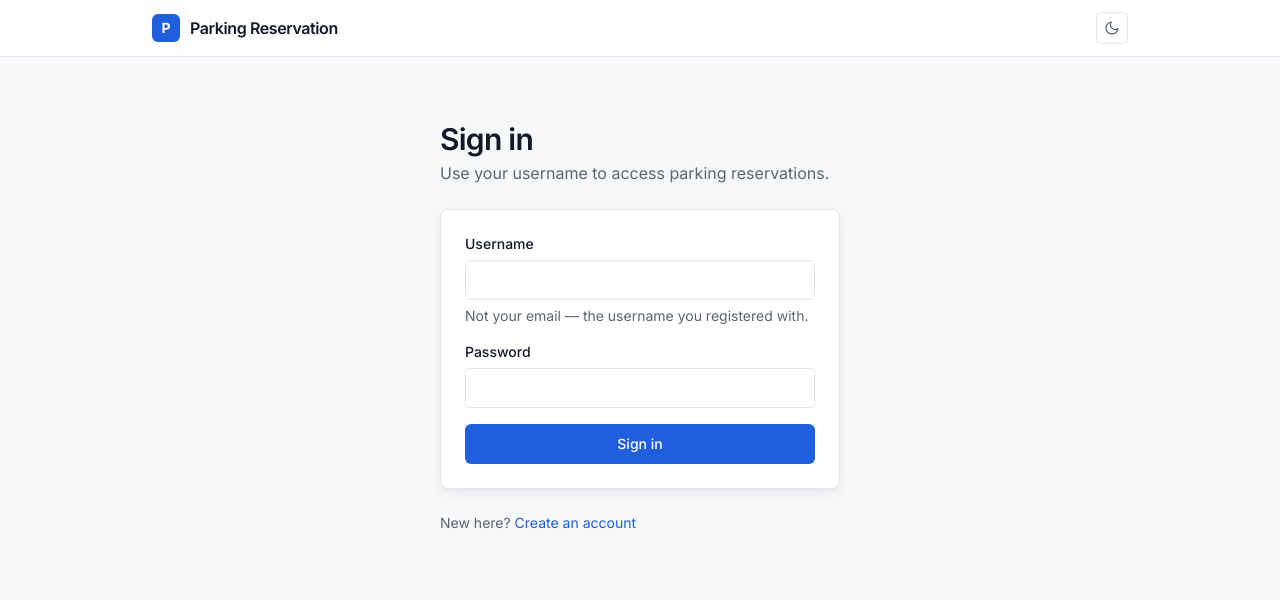
it: LoginPage › shows a form error on 401 and does not navigate
The image size is (1280, 600).
Type "admin" into the field labelled "Username" at (640, 280), box [465,260,815,300]
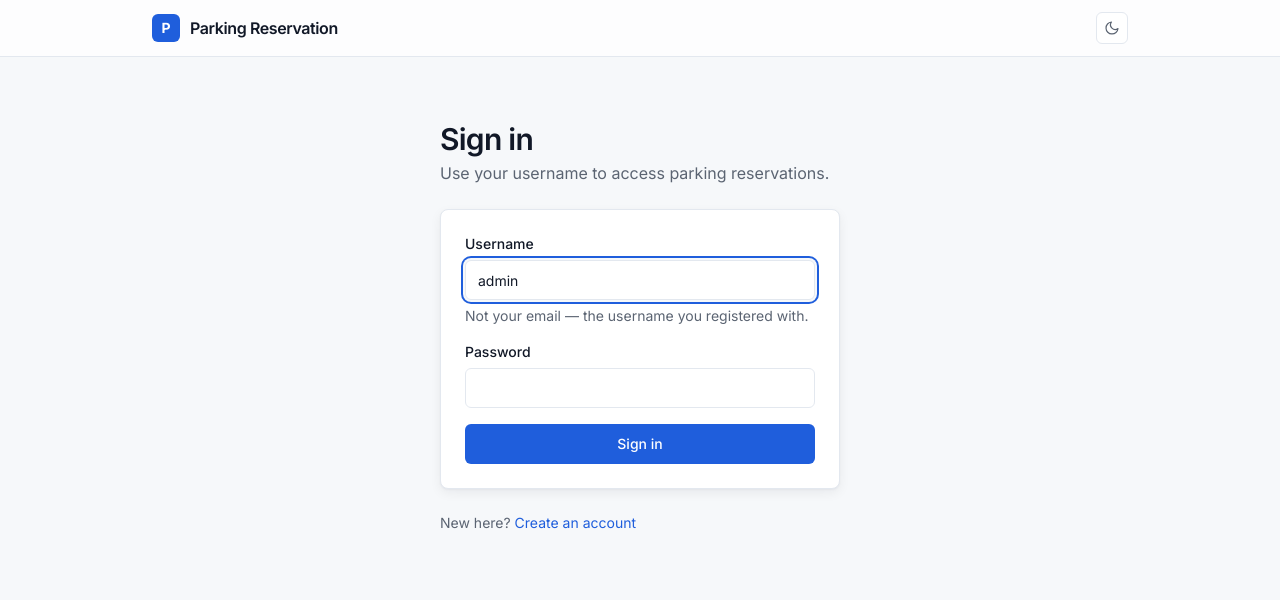
Type "wrong" into the password field labelled "Password" at (640, 388), box [465,368,815,408]
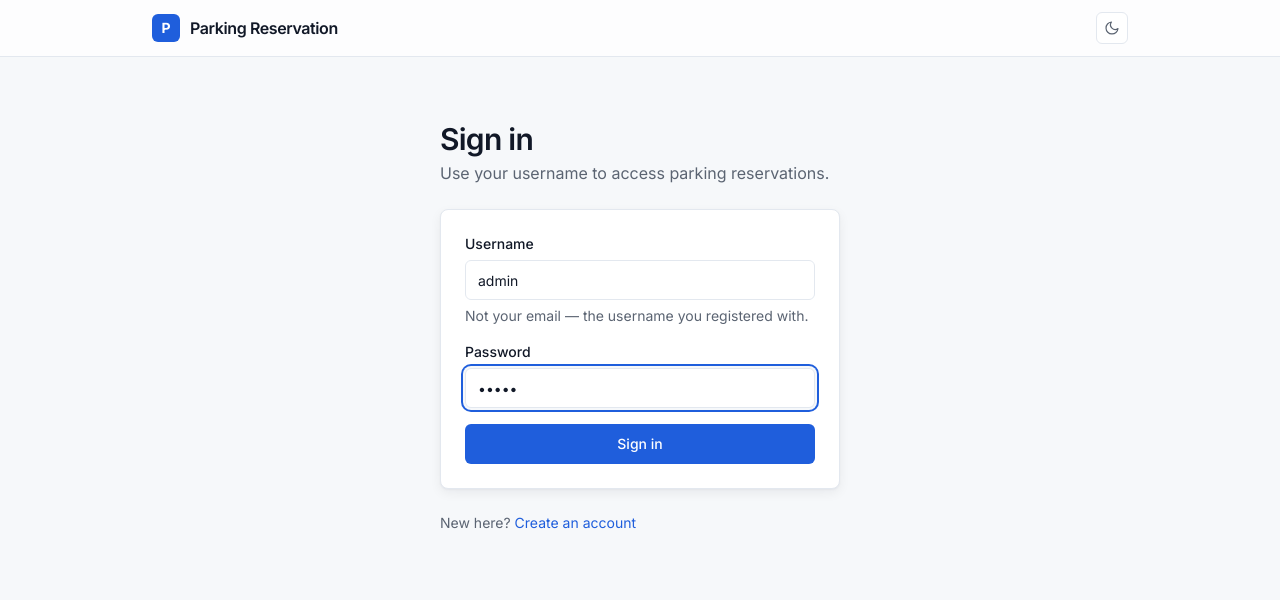
Click the button "Sign in" at (640, 444), box [465,424,815,464]
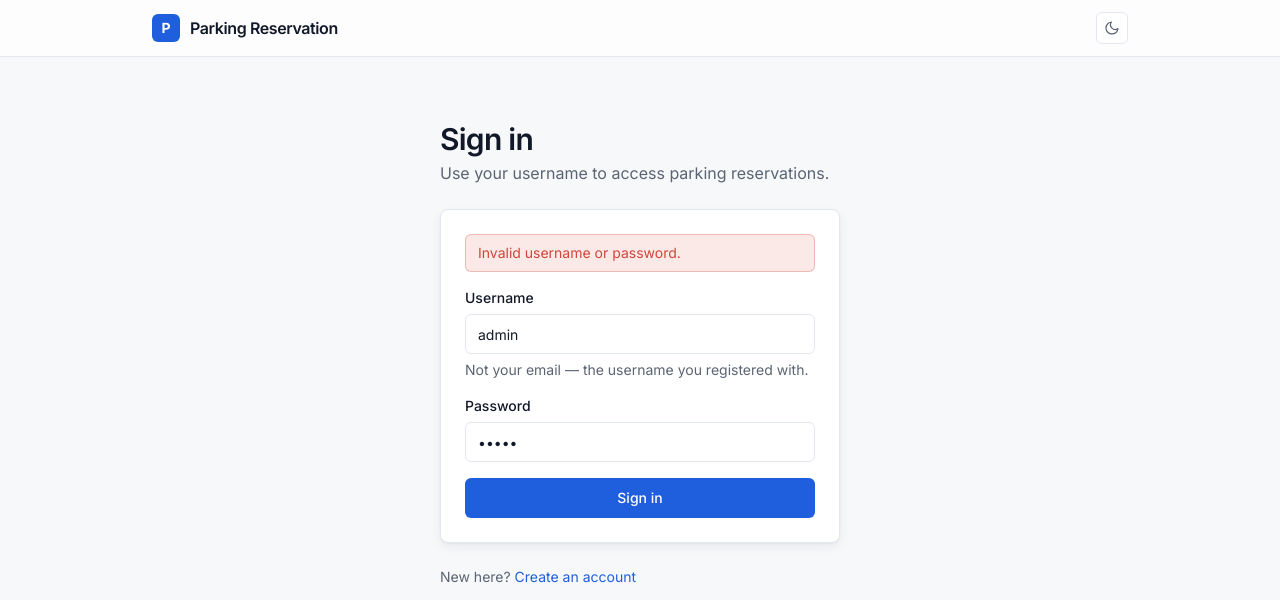
Result: the message shows "Invalid username or password" at [478,244,681,261]
